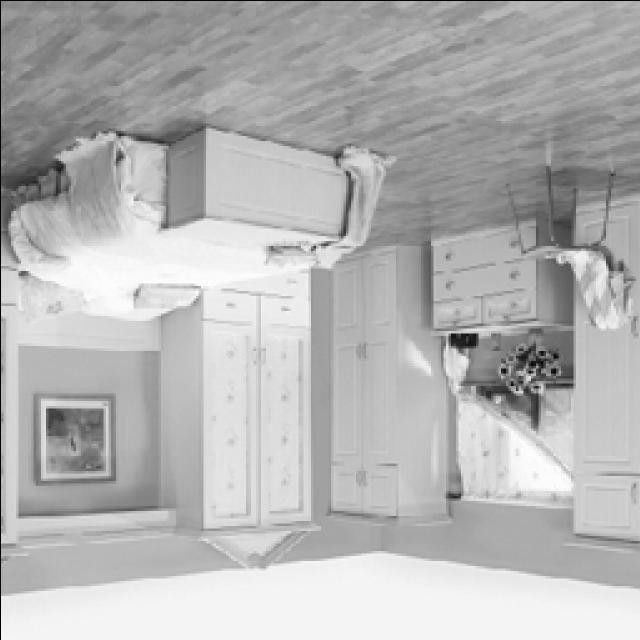chair: (504, 157, 632, 333)
